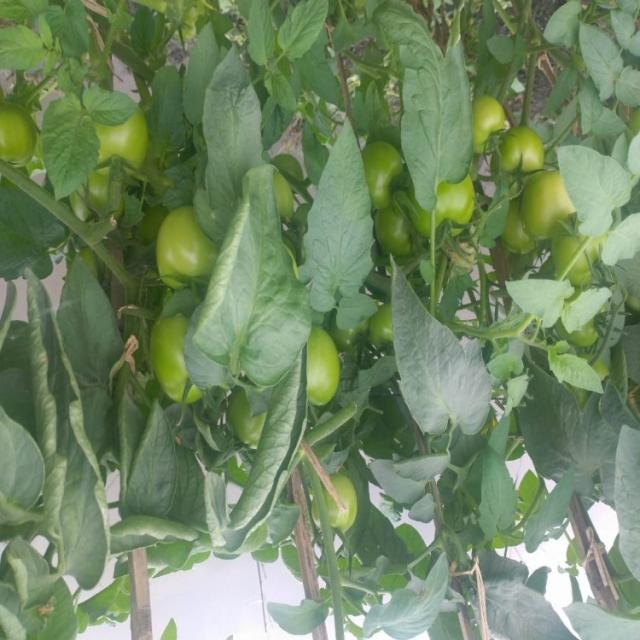tomato: (153, 210, 233, 288), (88, 104, 163, 187), (516, 159, 585, 246), (404, 174, 486, 245), (150, 299, 202, 401), (354, 140, 422, 212), (301, 318, 347, 418), (372, 198, 437, 267), (488, 121, 546, 198), (545, 217, 607, 279), (1, 85, 44, 173), (59, 174, 123, 226), (472, 86, 513, 166), (320, 474, 364, 540), (499, 210, 537, 264), (368, 295, 395, 361)
